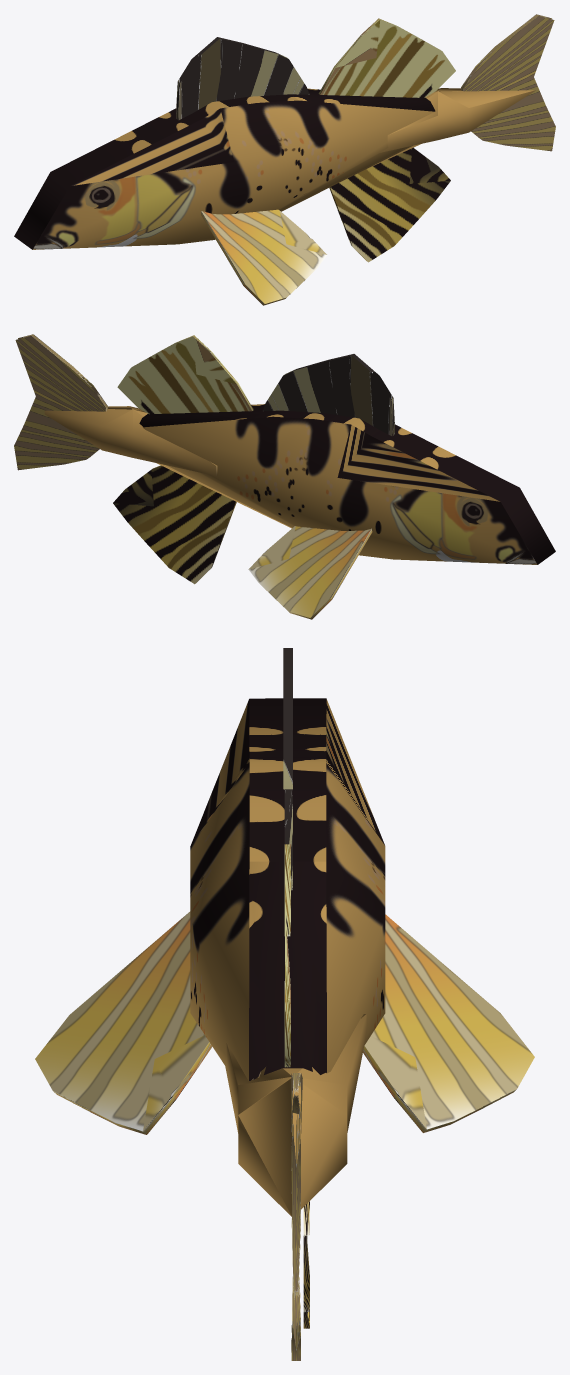
Rendered from perch_2.FBX.
3 renders of one model, top to bottom at view 1: azimuth 30°, elevation 25°; view 2: azimuth 150°, elevation 25°; view 3: azimuth 270°, elevation 25°, orthographic. The views are drawn at different scales.
Visible parts, largest first — view 1: Box001, Box006, Box008, Box003, Box005, Box004, Box007; view 2: Box001, Box006, Box003, Box009, Box005, Box004, Box007; view 3: Box001, Box008, Box009, Box007, Box003, Box004, Box005.
Boxes of the visible parts, x1,y1,x2,y2 form: Box001: (14, 88, 435, 249); Box006: (329, 147, 450, 262); Box008: (201, 209, 326, 305); Box003: (461, 14, 555, 151); Box005: (318, 18, 455, 97); Box004: (176, 37, 309, 119); Box007: (379, 88, 535, 152); Box001: (139, 404, 555, 564); Box006: (113, 465, 236, 584); Box003: (14, 334, 108, 470); Box009: (248, 526, 372, 619); Box005: (117, 335, 253, 414); Box004: (263, 354, 394, 435); Box007: (44, 406, 217, 475); Box001: (190, 698, 385, 1090); Box008: (35, 911, 212, 1134); Box009: (363, 914, 534, 1132); Box007: (225, 1014, 366, 1216); Box003: (291, 1073, 302, 1360); Box004: (283, 648, 292, 890); Box005: (284, 844, 290, 1067).
Size of the model in its own units: 71.52 by 33.95 by 29.23.
7 materials, 7 textured.
